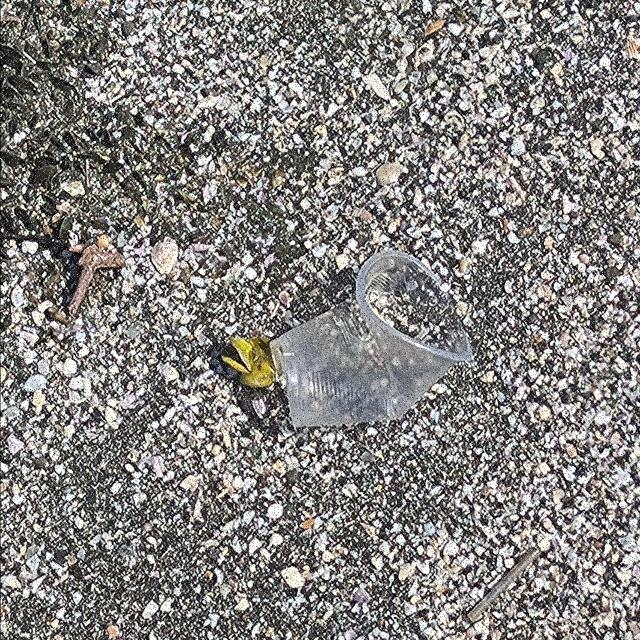plastic_waste: (269, 250, 474, 432)
